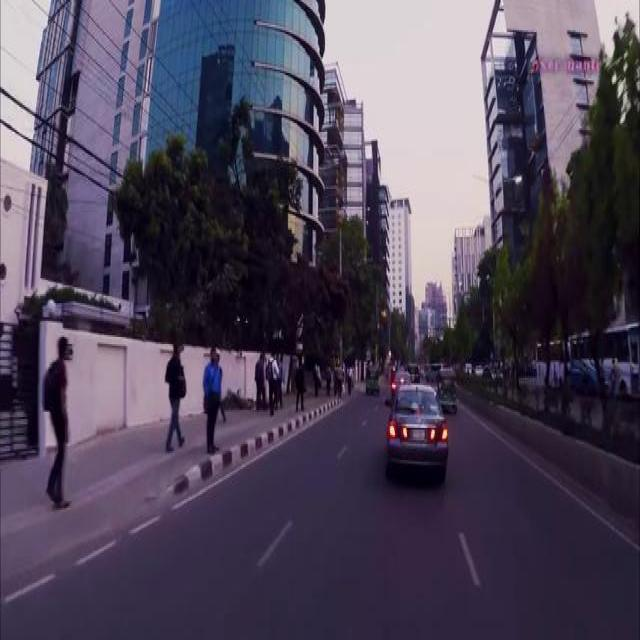17: (437, 364, 455, 408), (364, 363, 378, 391)
5: (384, 382, 448, 472), (391, 368, 412, 393)
Truck: (568, 324, 638, 402), (534, 335, 584, 387)
